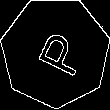P_NW: (25, 25, 85, 80)
